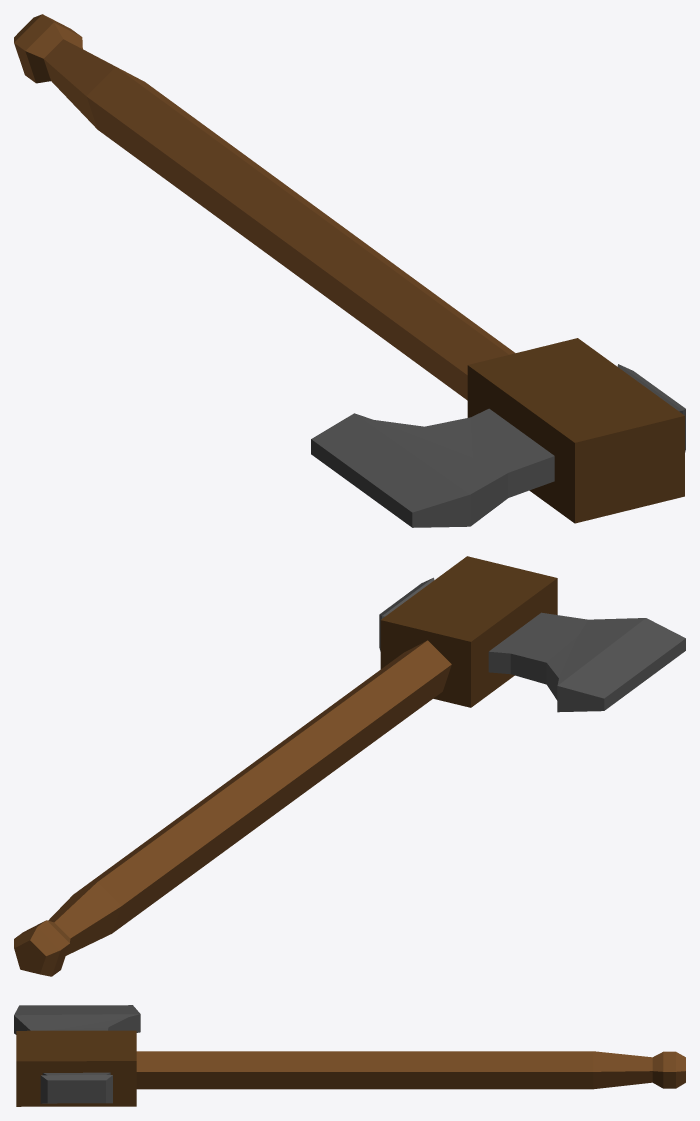
The model's file is F_LongAxe.fbx.
3 views of the same model, one above another, from view 1: azimuth 30°, elevation 25°; view 2: azimuth 150°, elevation 25°; view 3: azimuth 270°, elevation 25° (orthographic). The views are drawn at different scales.
Parts seen in each view (by area): view 1: F_LongAxe; view 2: F_LongAxe; view 3: F_LongAxe.
Boxes of the visible parts, x1=… form: F_LongAxe: x1=14, y1=14, x2=685, y2=527; F_LongAxe: x1=14, y1=556, x2=685, y2=976; F_LongAxe: x1=14, y1=1005, x2=685, y2=1106.
Bounding box in the file's own units: 55.24 × 14.24 × 190.
